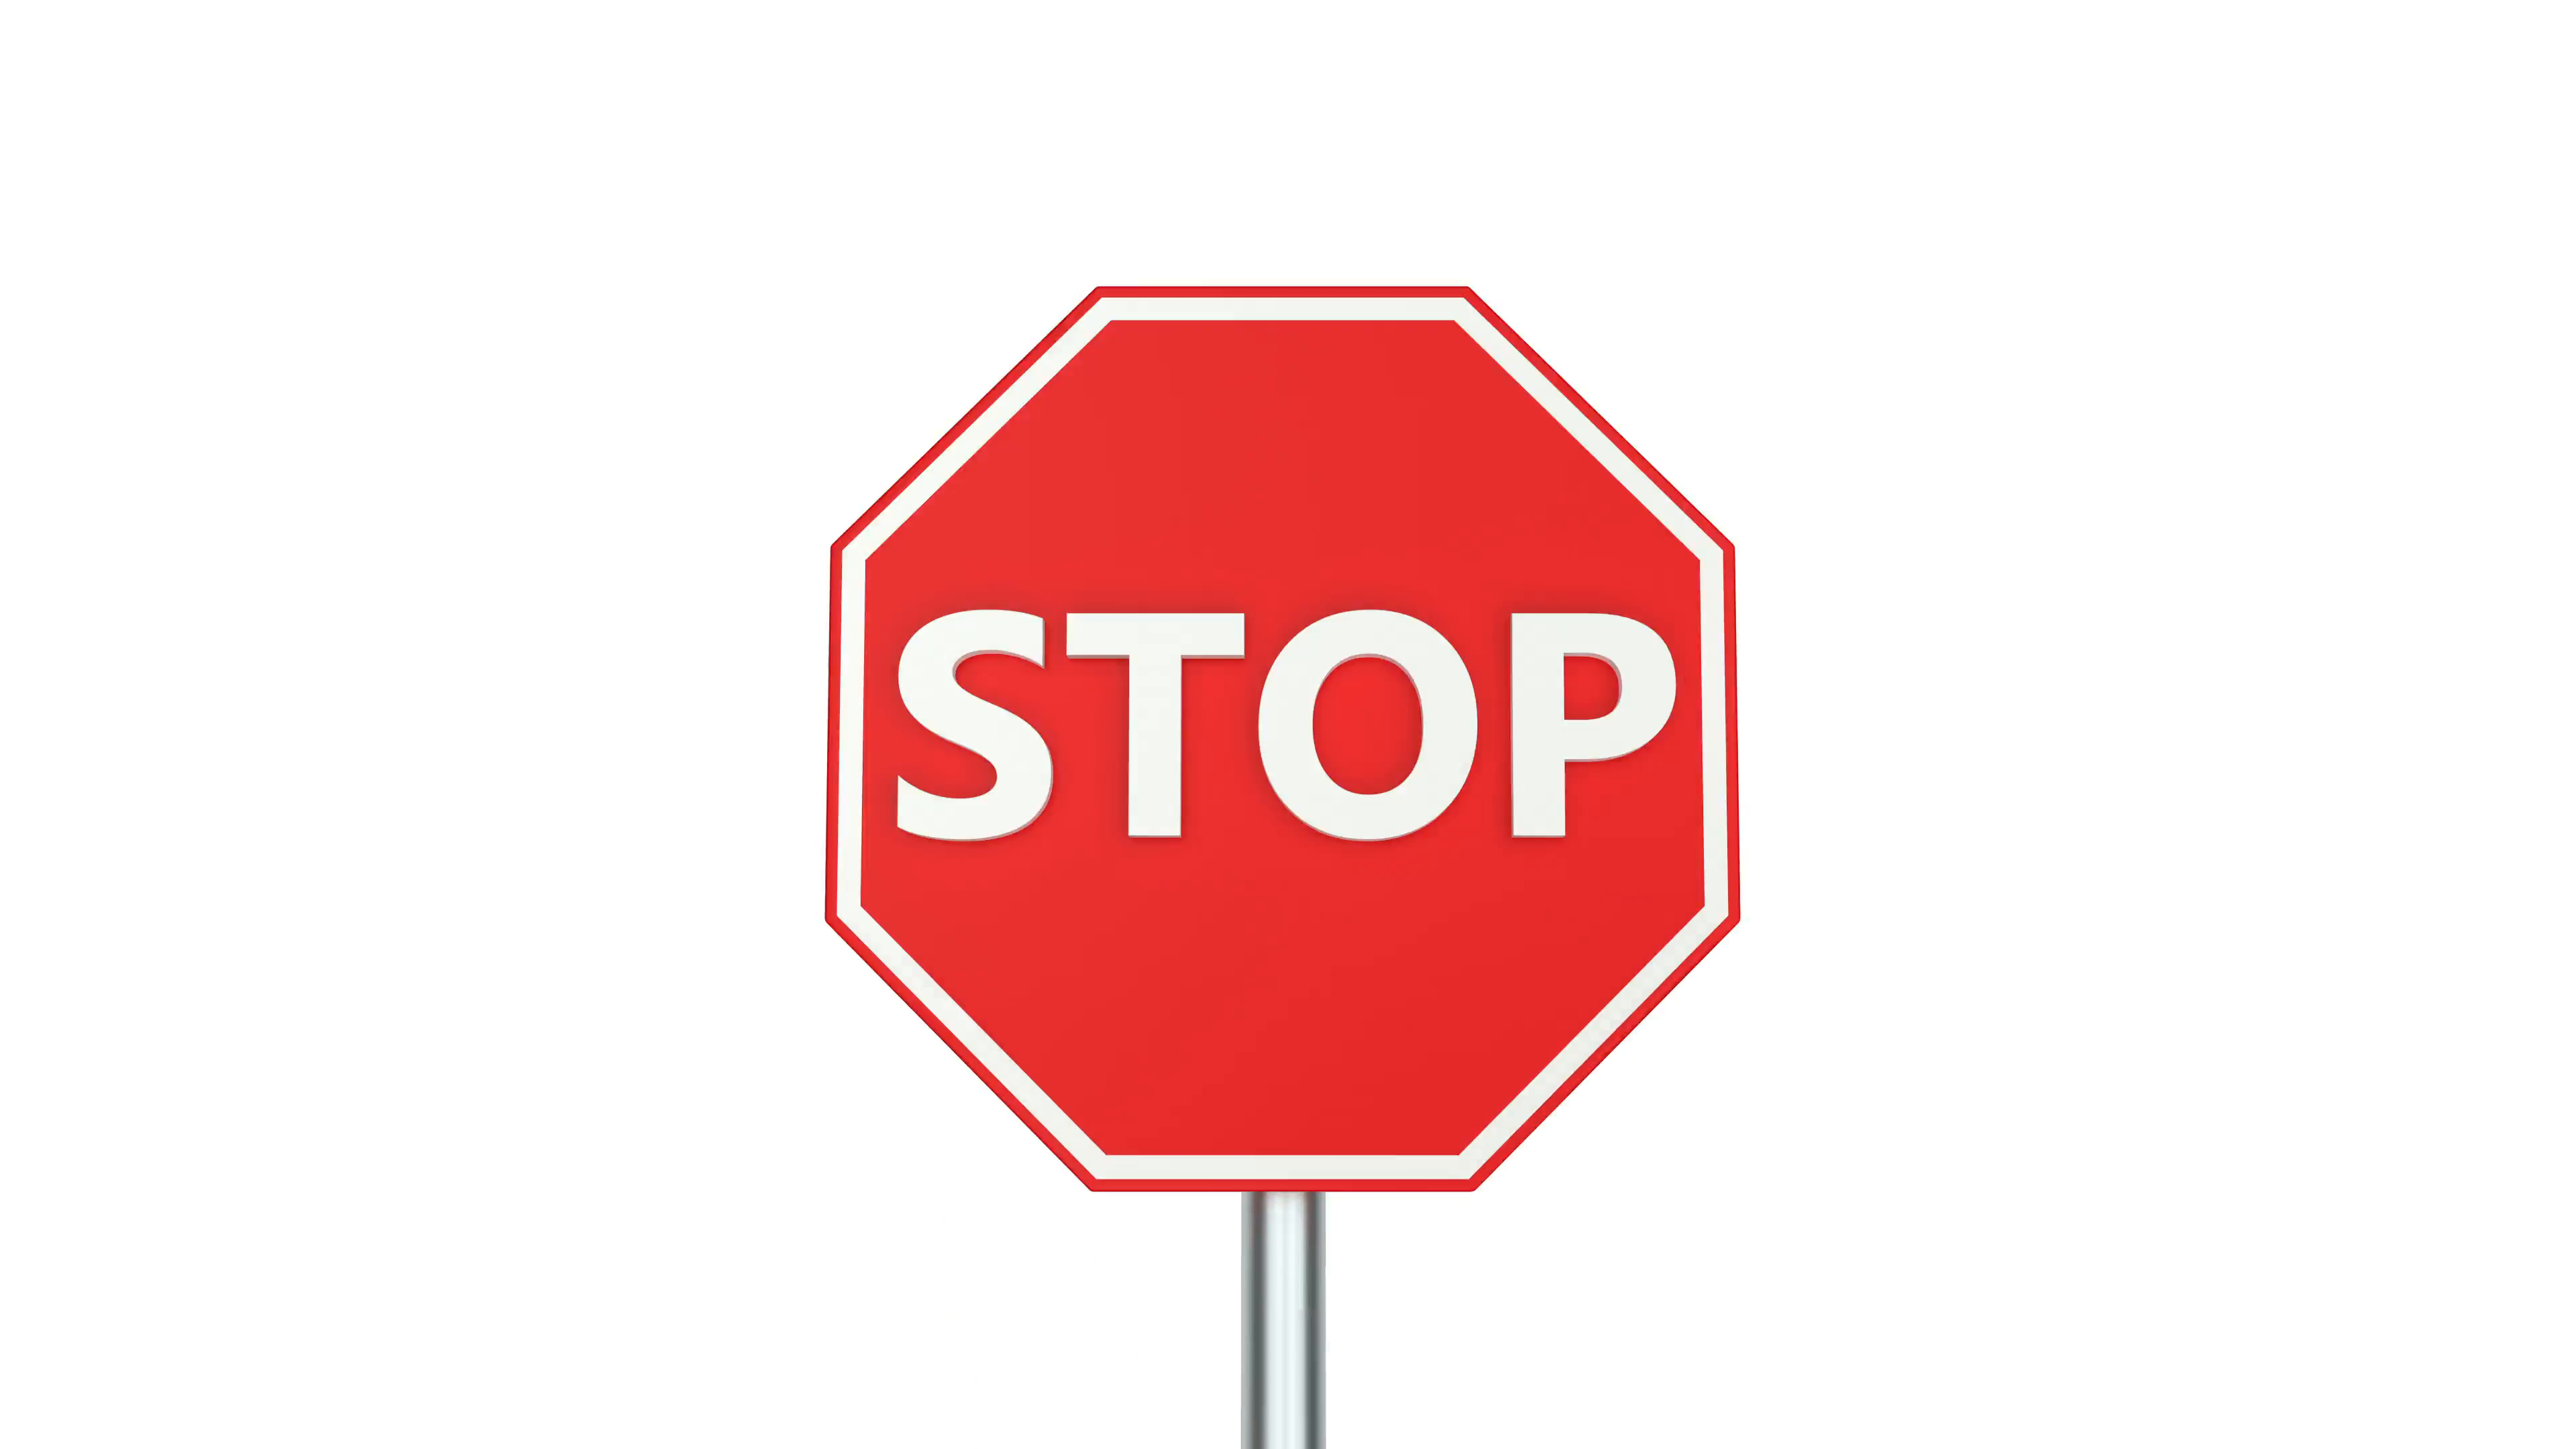stopsign: (832, 287, 1741, 1200)
